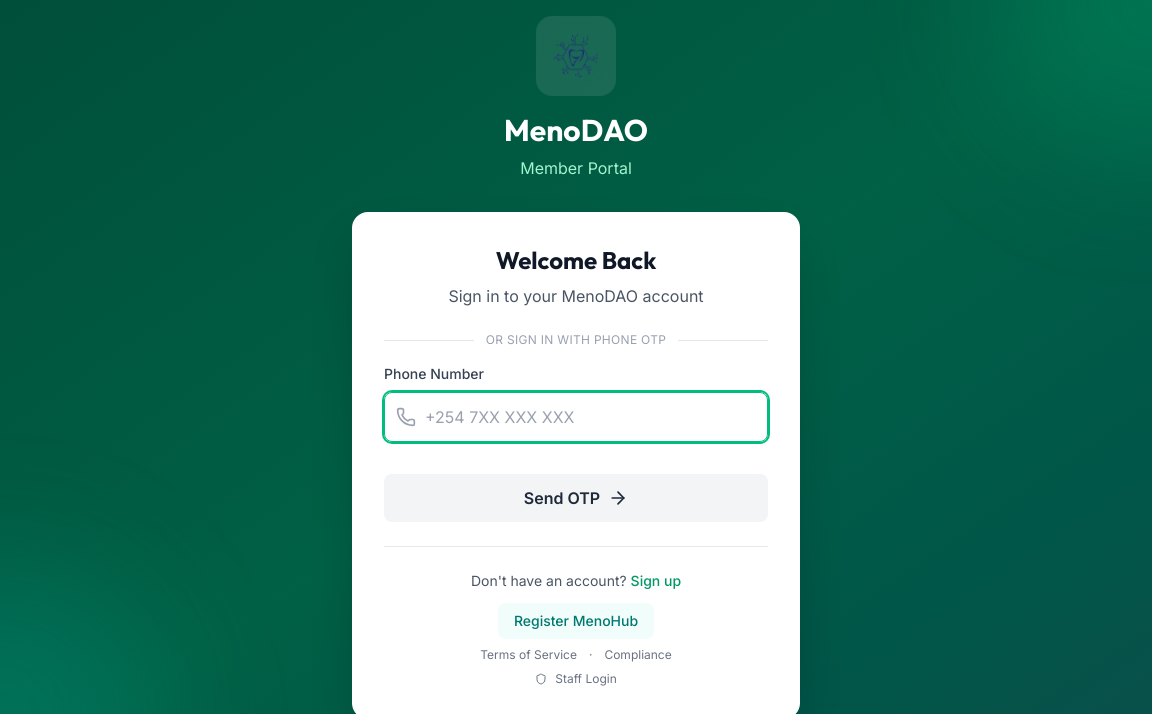
Test: LoginPage › Phone Number Form › displays error when phone check fails
Type "0712345678" into the field with placeholder "+254 7XX XXX XXX".
click(576, 417); type("0712345678")  # box [384,392,768,442]
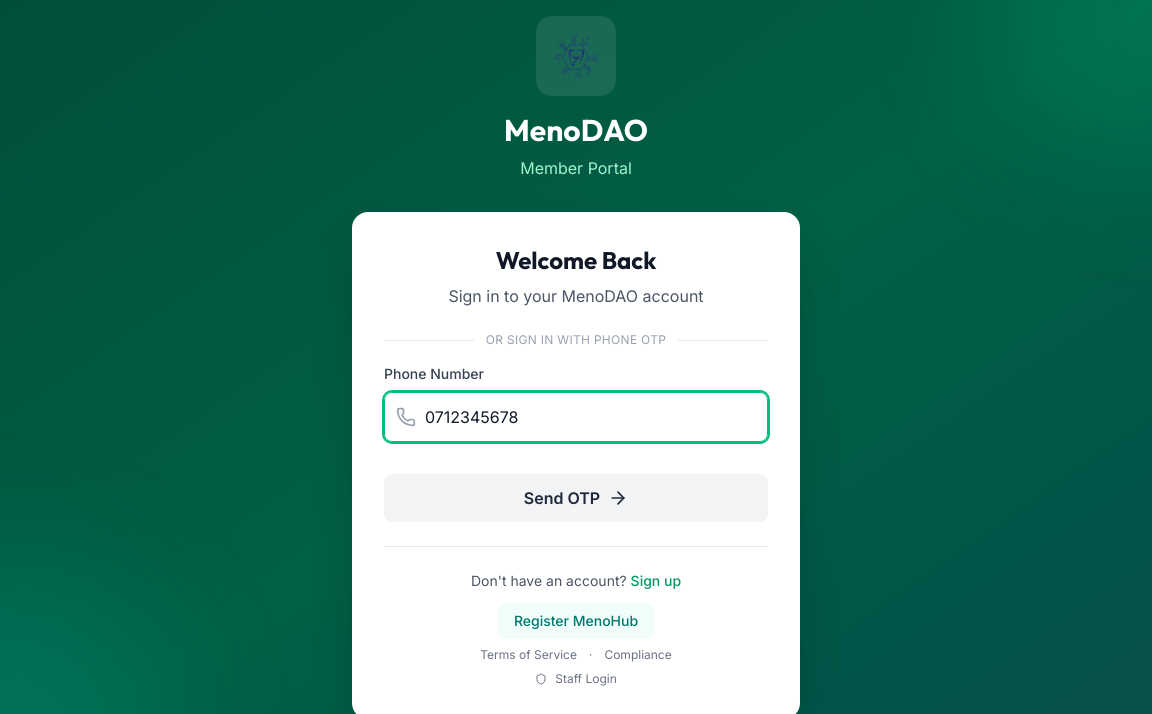
Click the button "Send OTP".
click(576, 498)  # box [384,474,768,522]
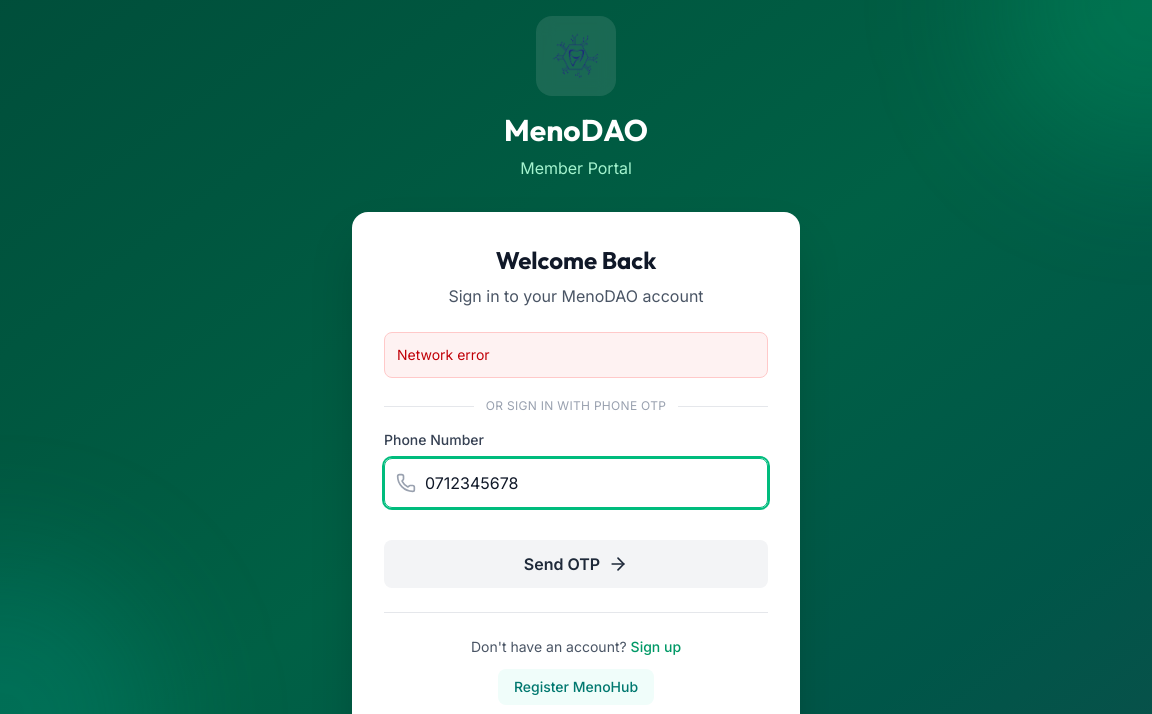
Now the text "Network error" is shown, box [384,332,768,378]
